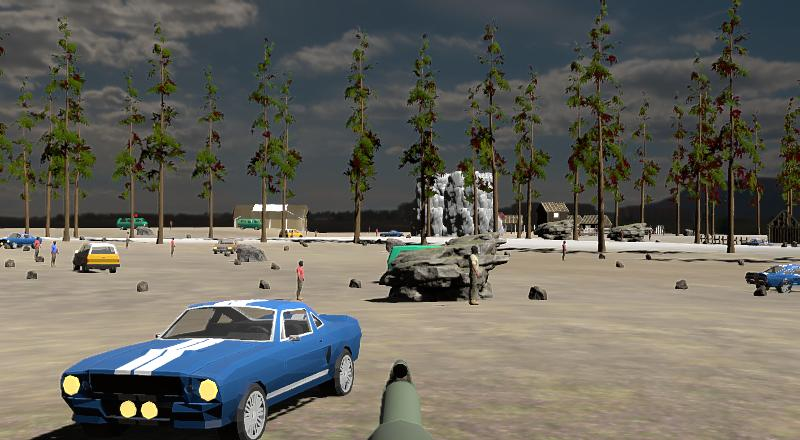Human: (465, 243, 482, 308), (294, 257, 308, 300), (32, 238, 45, 264), (49, 241, 61, 269), (560, 239, 569, 263)
car: (57, 297, 362, 440), (70, 240, 122, 277), (744, 262, 800, 296), (743, 262, 800, 295), (0, 231, 43, 251), (115, 214, 151, 232)
